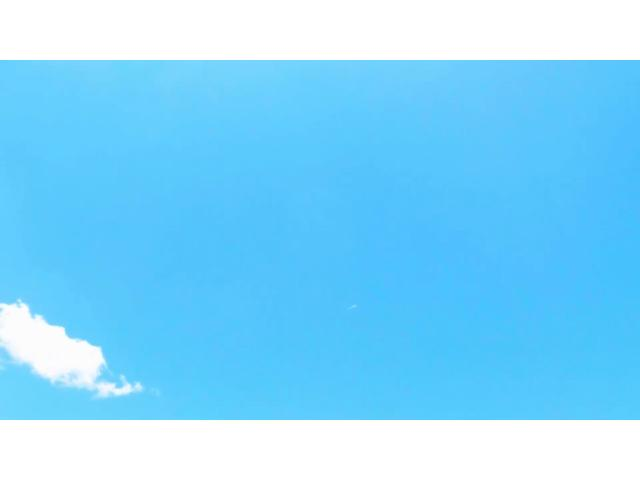Anti-Drone: (333, 296, 365, 317)
